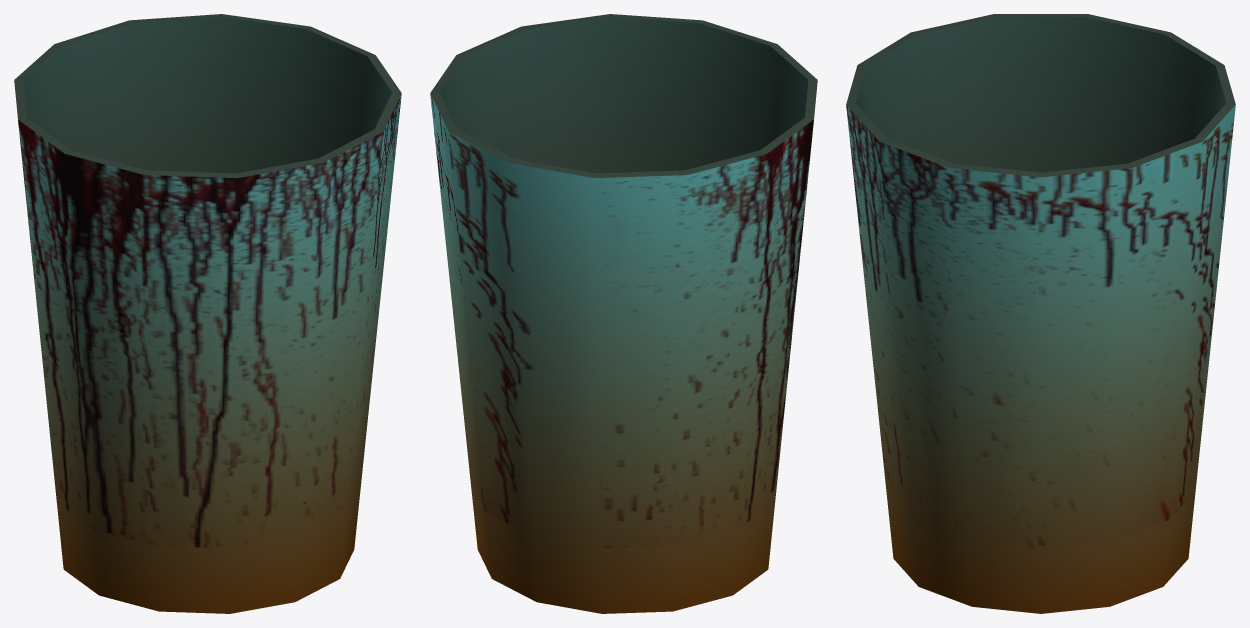
The model's file is Bin.FBX.
3 views of the same model, side by side, from view 1: azimuth 30°, elevation 25°; view 2: azimuth 150°, elevation 25°; view 3: azimuth 270°, elevation 25° (orthographic).
Visible parts, largest first — view 1: Cylinder004; view 2: Cylinder004; view 3: Cylinder004.
Boxes of the visible parts, <box> form: Cylinder004: <box>14,14,401,613</box>; Cylinder004: <box>430,14,817,613</box>; Cylinder004: <box>846,14,1235,613</box>.
Size of the model in its own units: 19.27 by 25.13 by 19.41.
